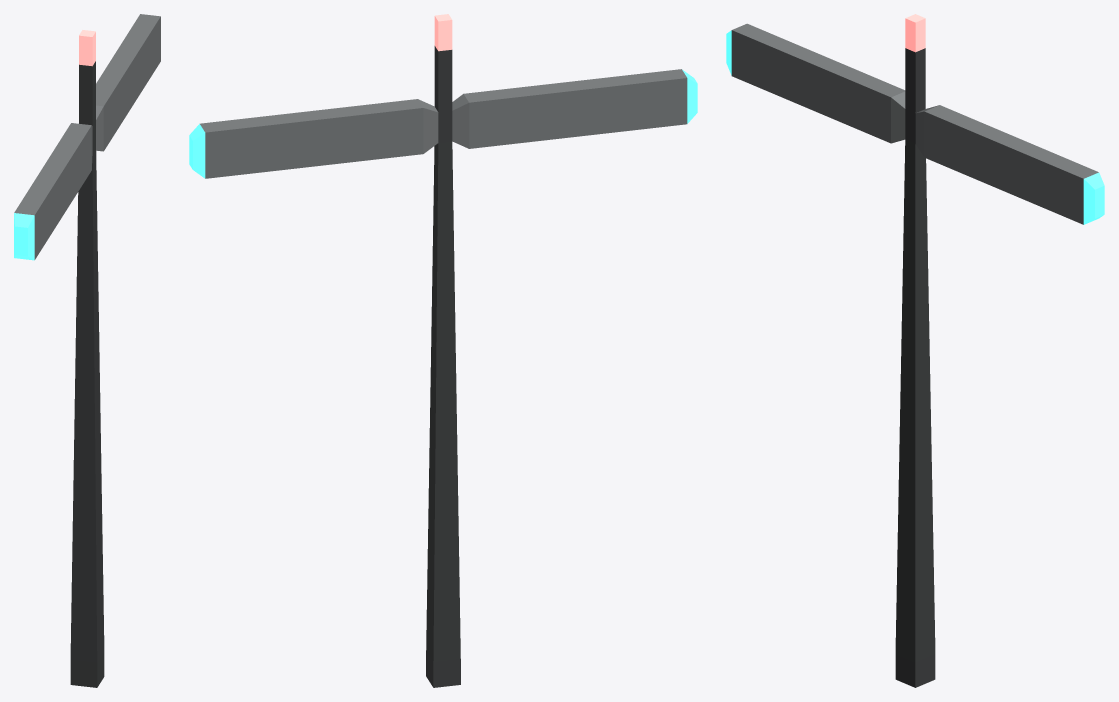
File: Signal_Bar_LODGroup.fbx
The picture shows the model from 3 angles, left to right: view 1: azimuth 30°, elevation 25°; view 2: azimuth 150°, elevation 25°; view 3: azimuth 270°, elevation 25°; orthographic projection. The views are drawn at different scales.
Visible parts, largest first — view 1: Signal Bar_LOD0; view 2: Signal Bar_LOD0; view 3: Signal Bar_LOD0.
Boxes of the visible parts, x1,y1,x2,y2 form: Signal Bar_LOD0: (14,14,160,687); Signal Bar_LOD0: (189,14,697,687); Signal Bar_LOD0: (726,14,1104,687).
Size of what is drawn, in the model's own units: 66.97 by 129 by 66.97.
